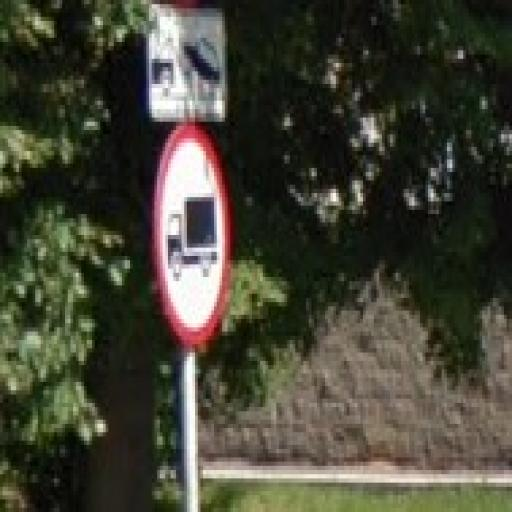traffic_sign: (153, 123, 234, 345)
